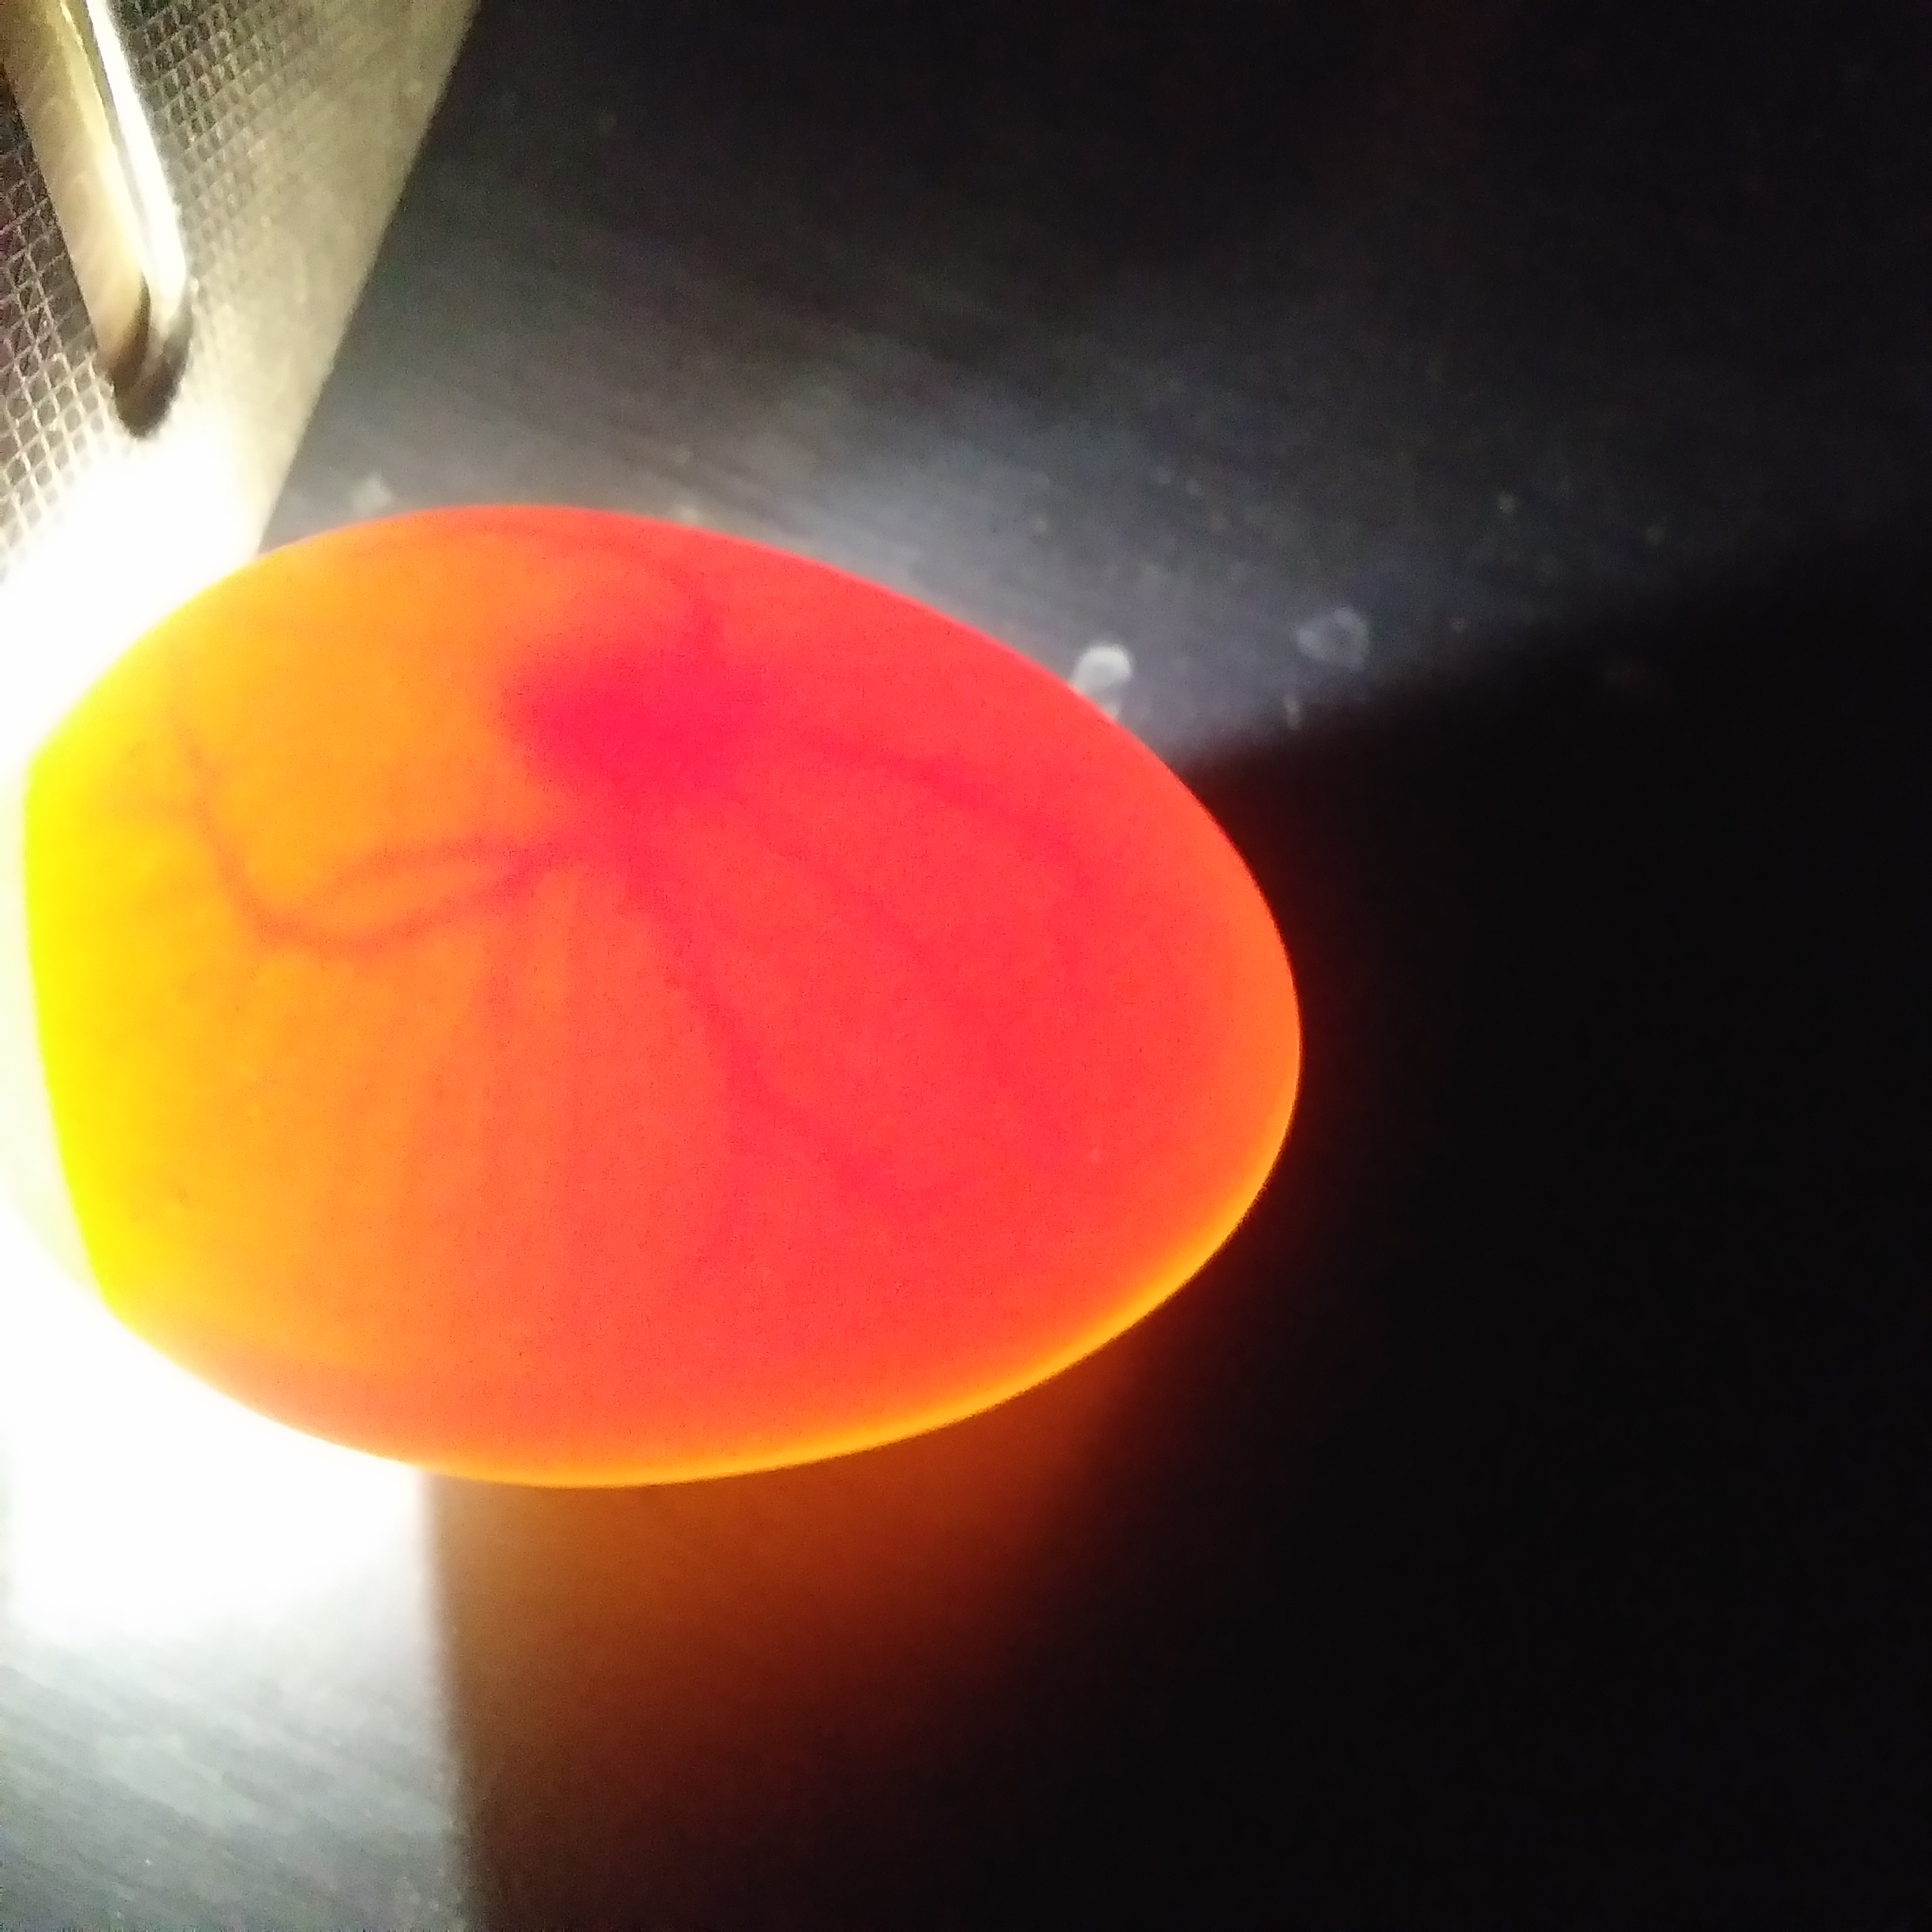bloodcell: (469, 846, 1028, 1223), (152, 651, 428, 1162)
embryo: (501, 653, 757, 819)
